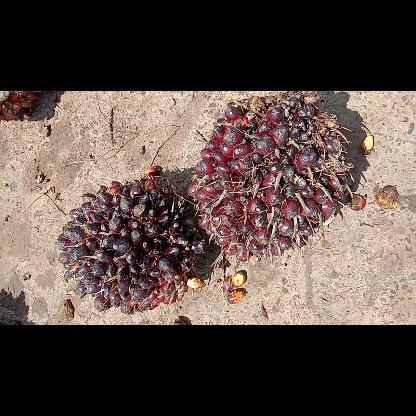Kurang masak: (185, 93, 357, 262), (55, 163, 209, 316)
